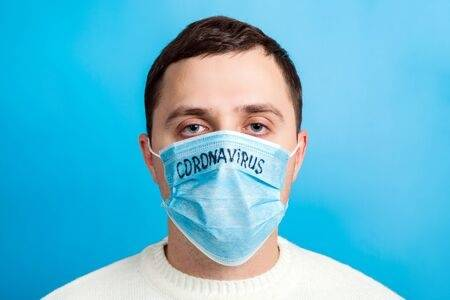surgical: (146, 132, 296, 271)
